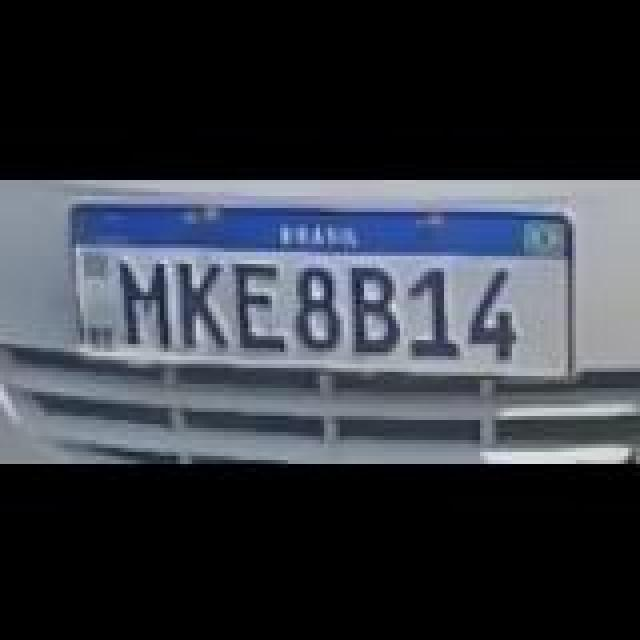1: (408, 266, 464, 358)
4: (466, 266, 518, 358)
8: (294, 260, 346, 348)
B: (350, 262, 402, 354)
E: (232, 260, 288, 348)
K: (176, 260, 232, 348)
M: (118, 256, 178, 344)
